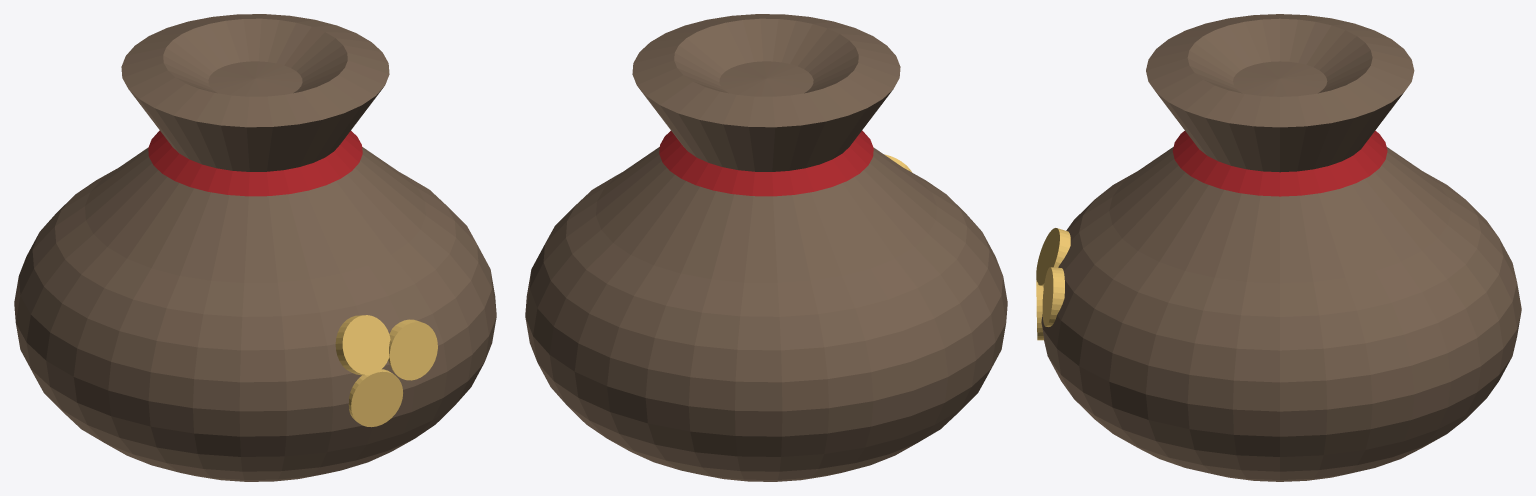
File: Gold.fbx
3 views of the same model, side by side, from view 1: azimuth 30°, elevation 25°; view 2: azimuth 150°, elevation 25°; view 3: azimuth 270°, elevation 25° (orthographic).
Parts seen in each view (by area): view 1: Pouch, Tie, Gold.002, Gold.001, Gold; view 2: Pouch, Tie; view 3: Pouch, Tie, Gold.002, Gold.001.
Part boxes in pixels (x1,y1,x2,y2): Pouch: (14, 14, 496, 481); Tie: (148, 130, 362, 196); Gold.002: (335, 315, 390, 375); Gold.001: (388, 319, 437, 380); Gold: (348, 369, 402, 427); Pouch: (525, 14, 1007, 481); Tie: (659, 130, 873, 196); Pouch: (1041, 14, 1521, 481); Tie: (1172, 130, 1387, 196); Gold.002: (1036, 228, 1070, 286); Gold.001: (1042, 267, 1064, 326).
Bounding box in the file's own units: 200 × 178 × 201.
